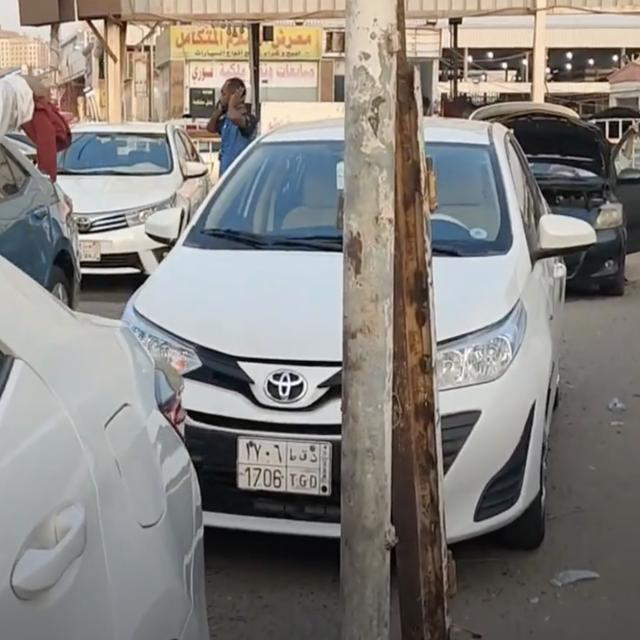license_plate: (230, 436, 340, 506), (77, 239, 100, 262)
